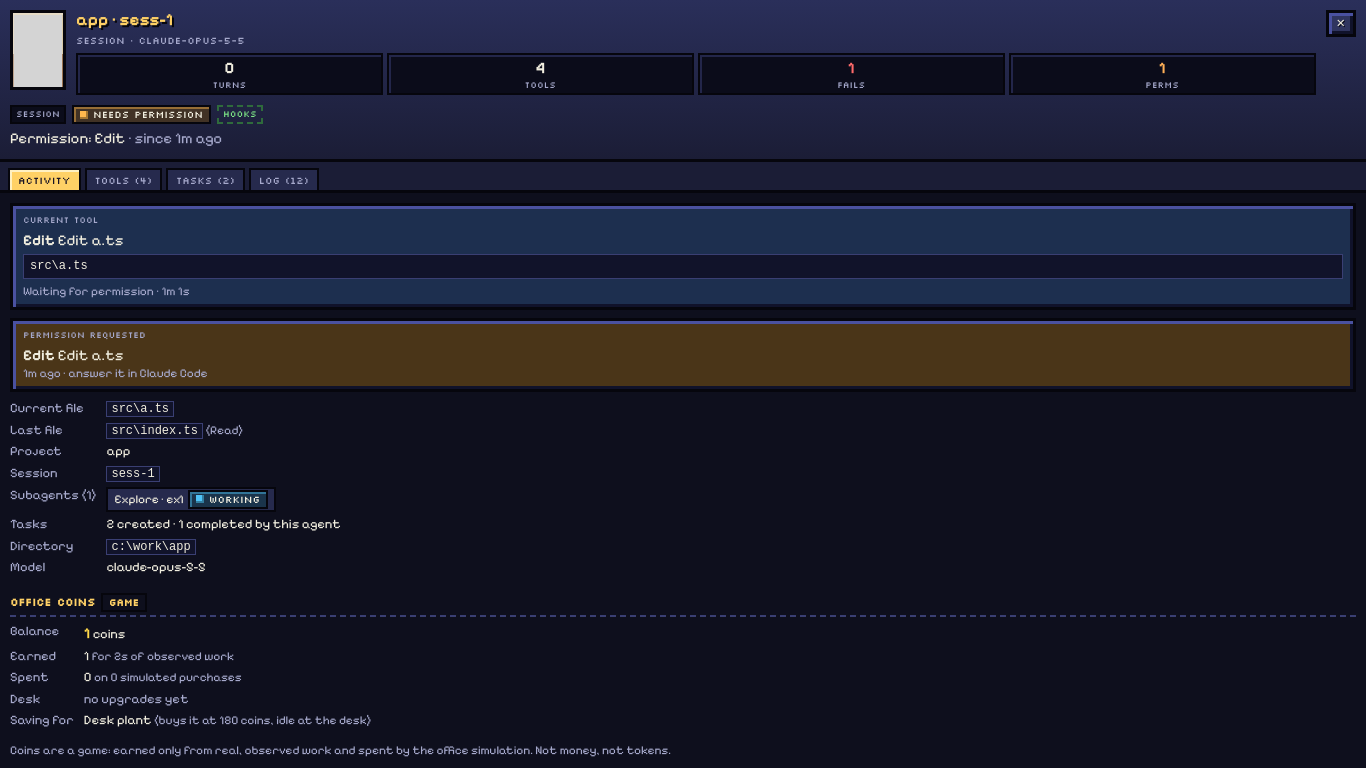
Test: Inspector › shows tasks and the event log for the agent
Click the tab "Tasks (2)": (205, 179) [166,168,245,190]
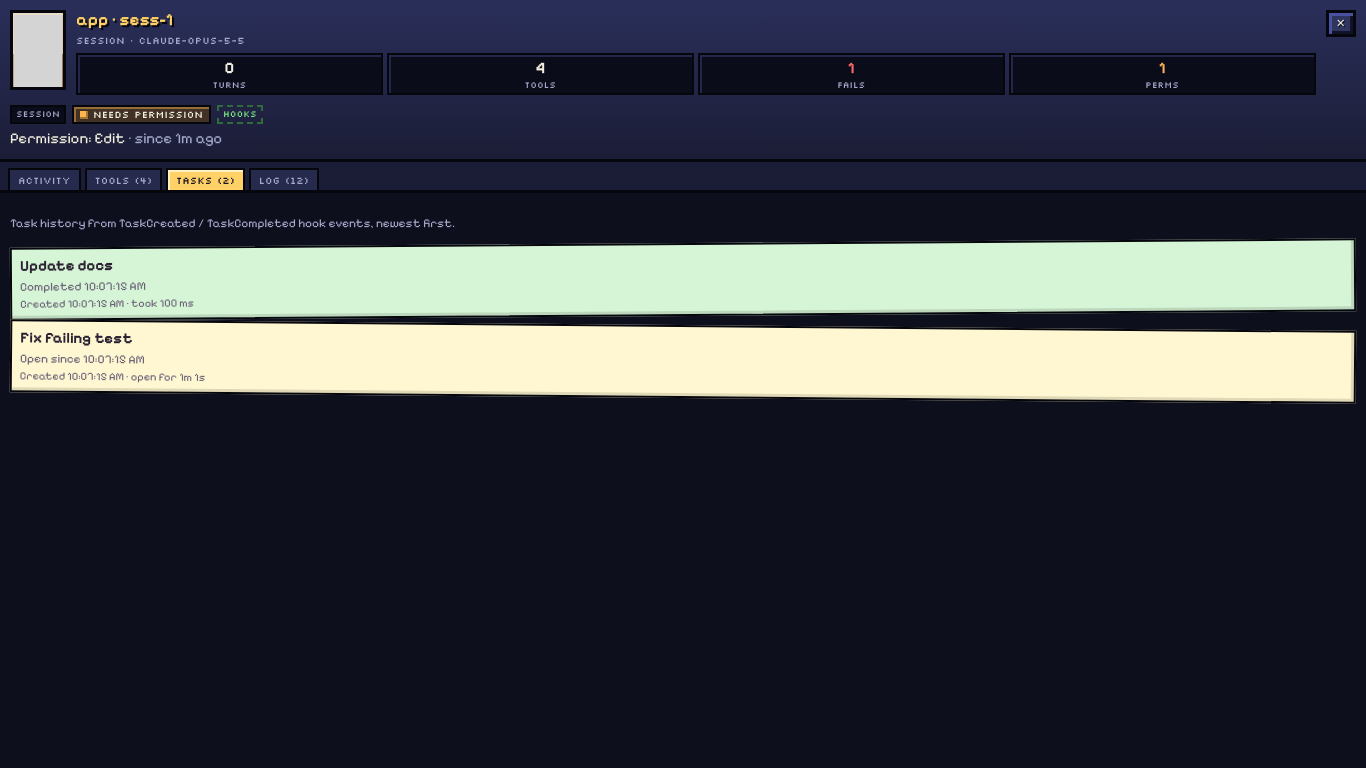
Expected: the text "Fix failing test" is shown, [20,328,133,347]
Click the tab "Log (12)": (284, 179) [249,168,319,190]
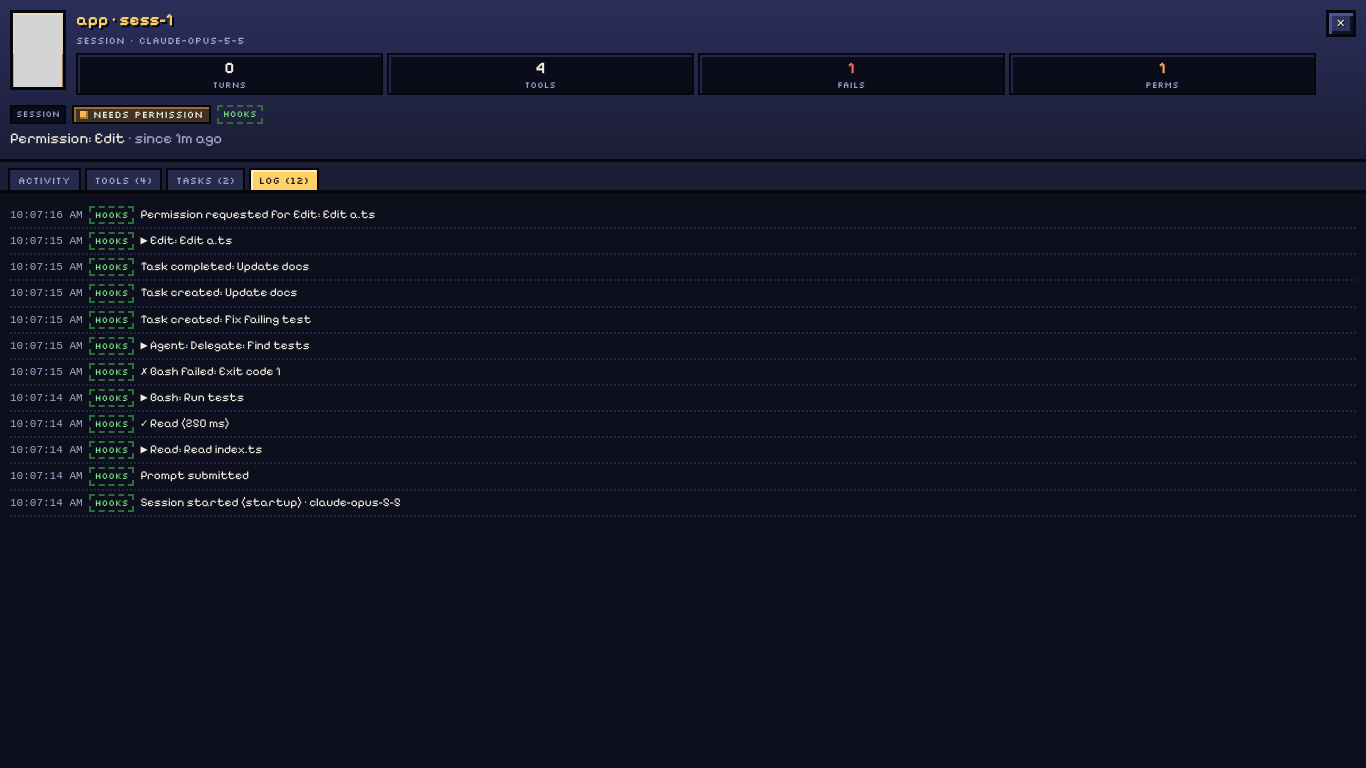
Expected: the text "Permission requested for Edit: Edit a.ts" is shown, [140,207,375,221]
